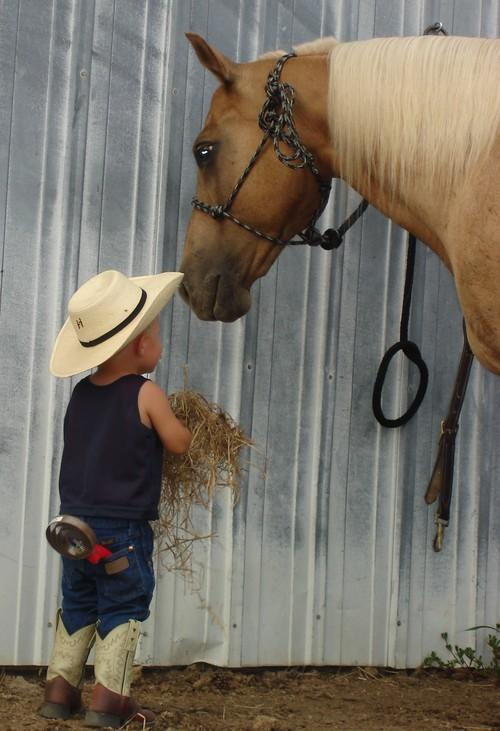person: (43, 269, 197, 722)
